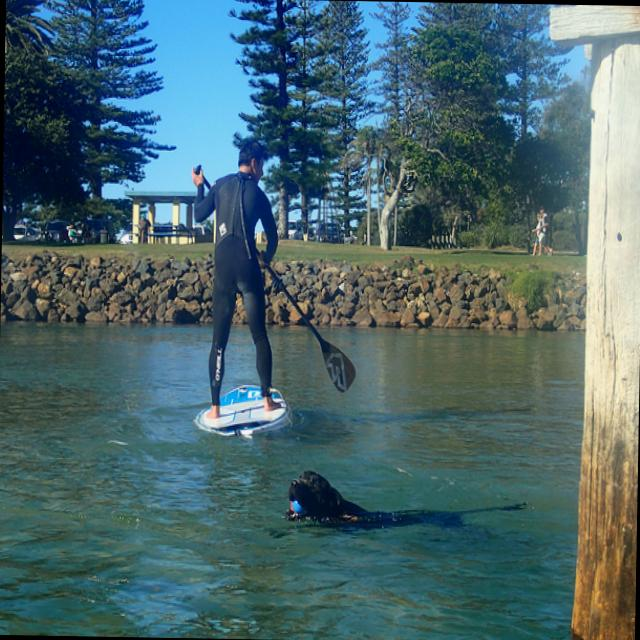Vehicle: (314, 222, 344, 244), (288, 221, 302, 238), (14, 223, 26, 240), (120, 230, 132, 244)
